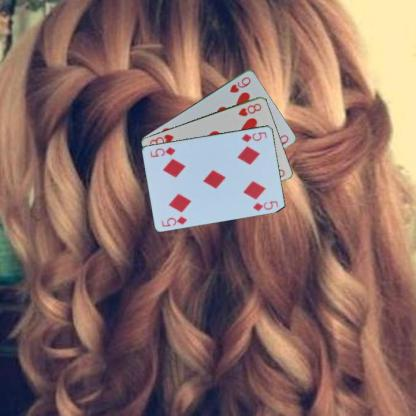5d: (160, 213, 188, 228), (239, 129, 268, 143)
8h: (236, 100, 263, 118)
9h: (227, 74, 252, 94)
